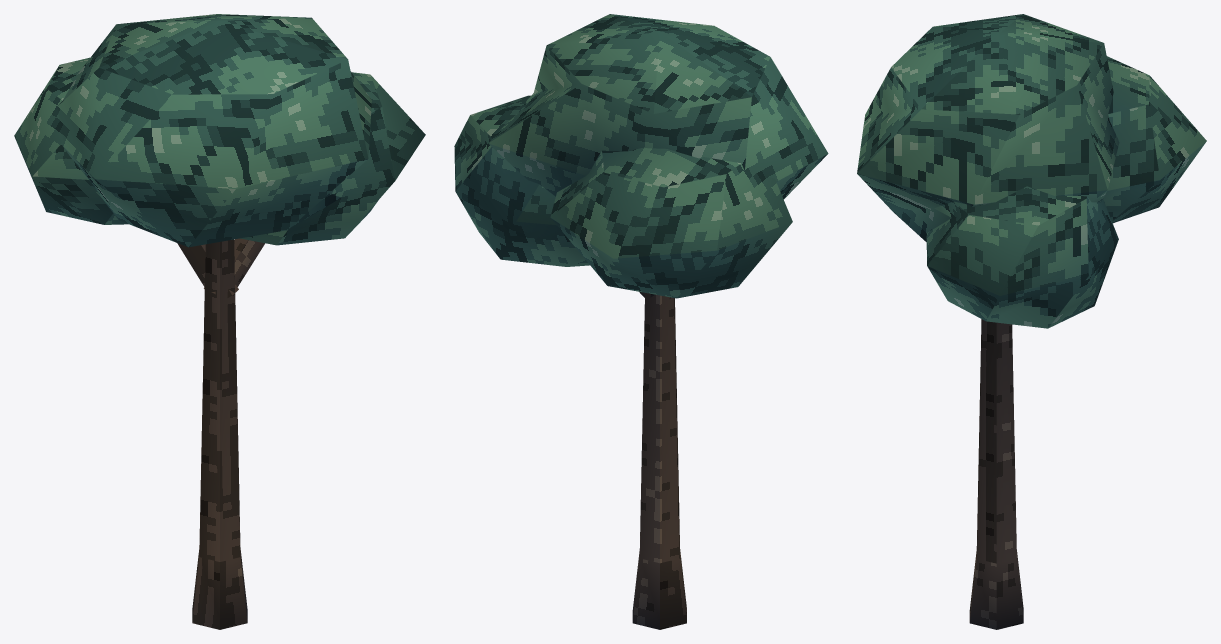
The model's file is mnat.oak__young.glb.
The picture shows the model from 3 angles, left to right: view 1: azimuth 30°, elevation 25°; view 2: azimuth 150°, elevation 25°; view 3: azimuth 270°, elevation 25°; orthographic projection. The views are drawn at different scales.
Visible parts, largest first — view 1: kit_crown, kit_trunk; view 2: kit_crown, kit_trunk; view 3: kit_crown, kit_trunk.
Part boxes in pixels (x1,y1,x2,y2): kit_crown: (14, 14, 425, 247); kit_trunk: (177, 238, 264, 629); kit_crown: (454, 14, 828, 298); kit_trunk: (632, 291, 686, 629); kit_crown: (857, 14, 1206, 328); kit_trunk: (969, 319, 1023, 629).
Size of the model in its own units: 2.4 by 3.7 by 2.02.
2 materials, 2 textured.
